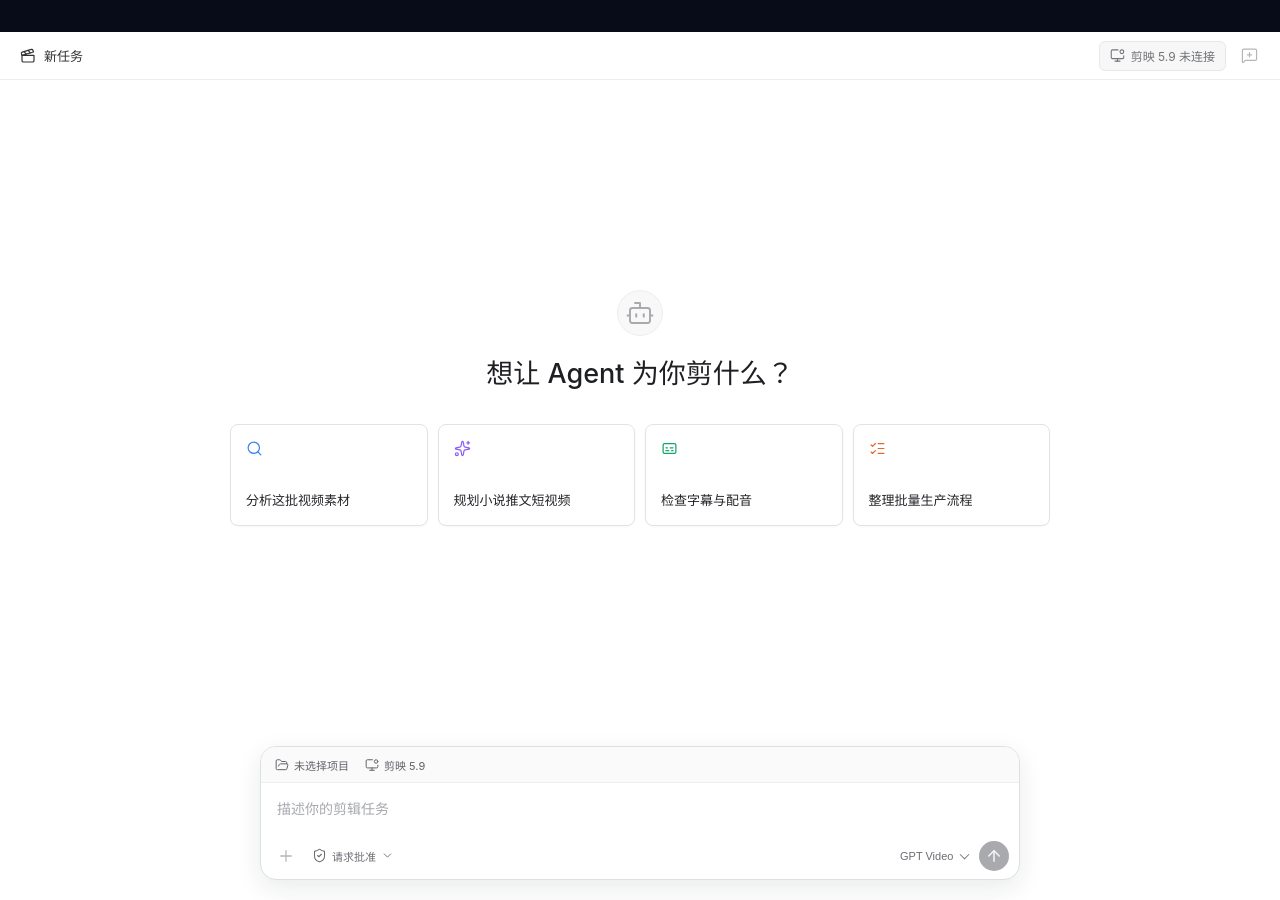
Scenario: AgentWorkspace › creates a Codex thread and renders streamed message deltas
Type "帮我规划今天的剪辑任务" into the text box named "描述剪辑任务" at (640, 810), box [261,783,1019,837]
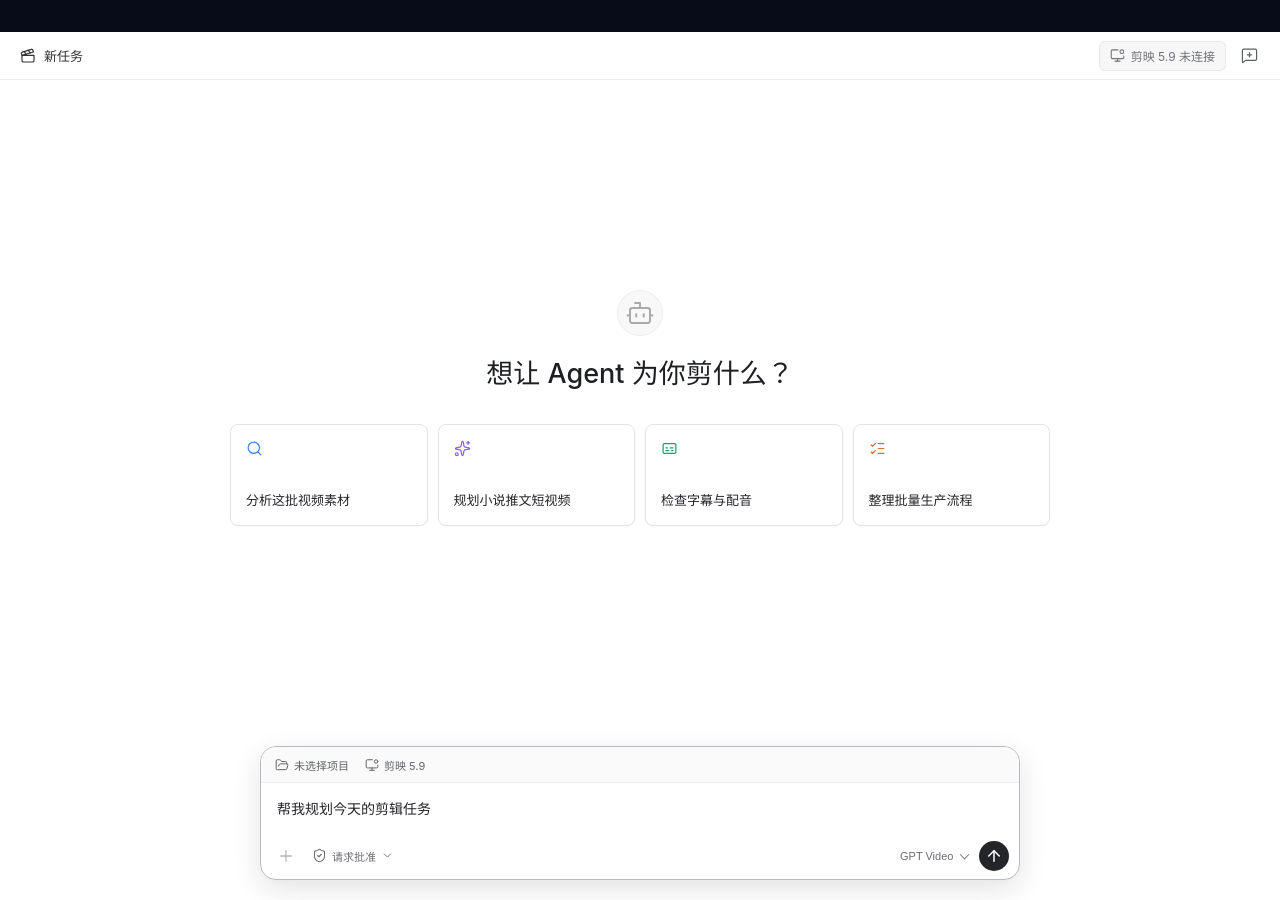
Click the button named "发送" at (994, 856), box [979,840,1009,870]
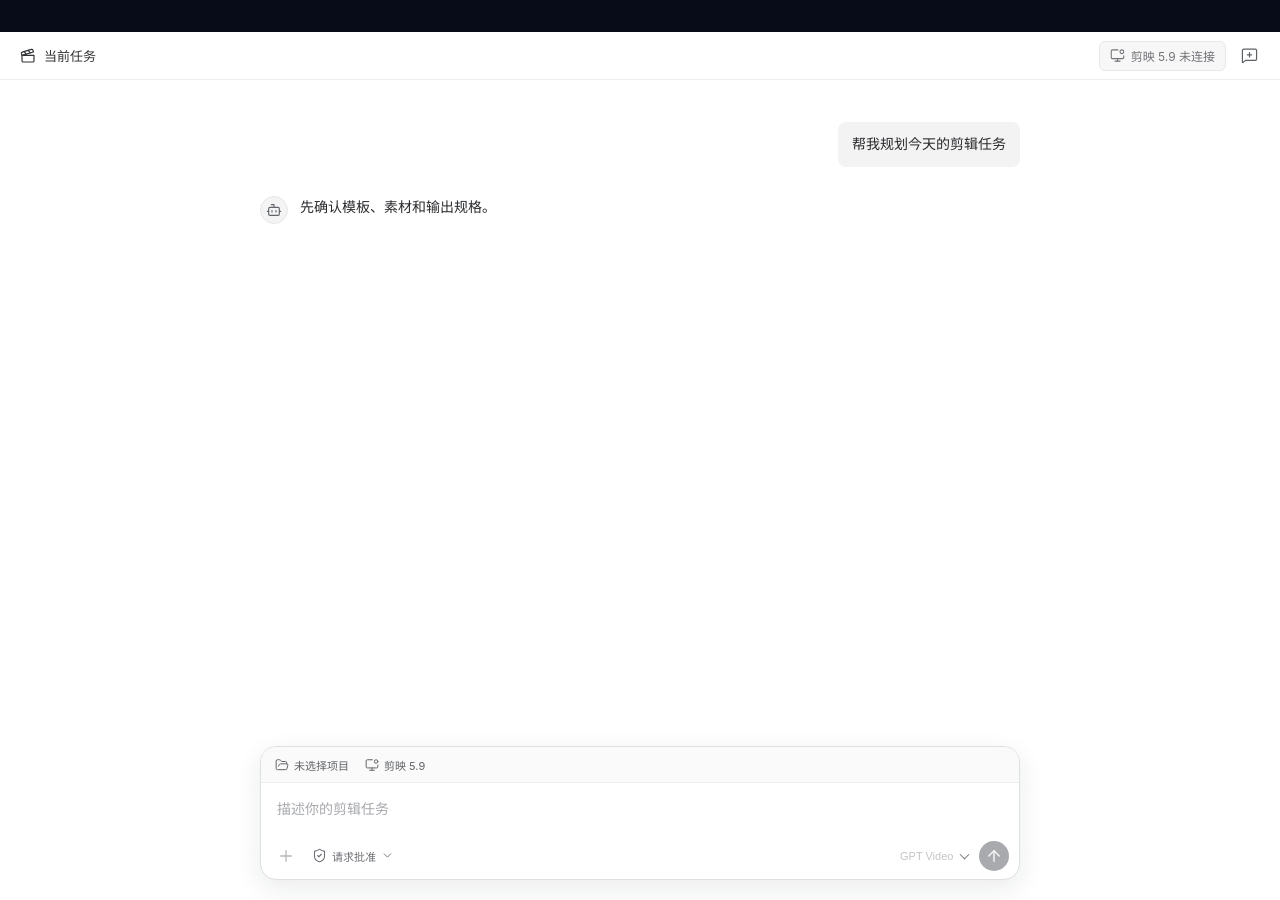
Expected: the text "帮我规划今天的剪辑任务" is shown, [852,132,1006,156]
Expected: the text "先确认模板、素材和输出规格。" is shown, [300,194,496,219]
